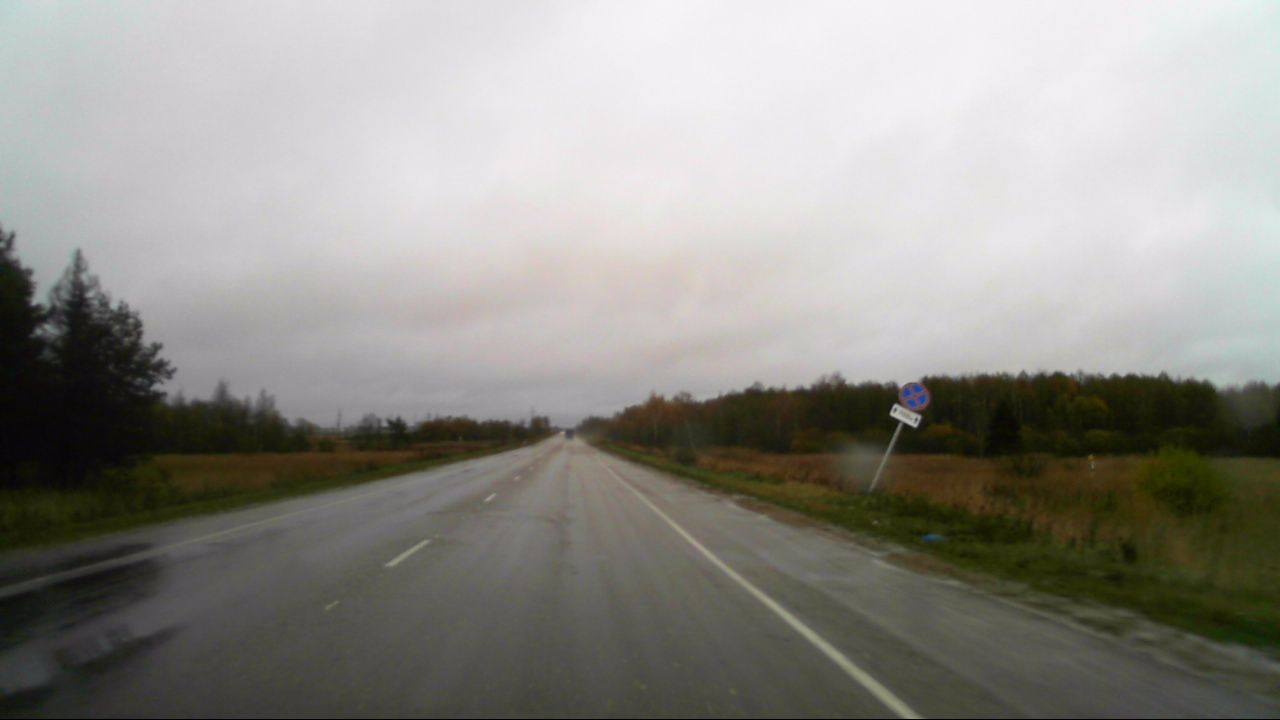No Parking: (898, 380, 931, 410)
